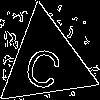C: (21, 36, 68, 93)
